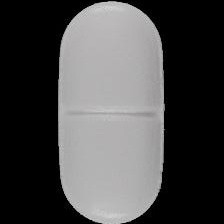68788-9297: (0, 0, 224, 224)
